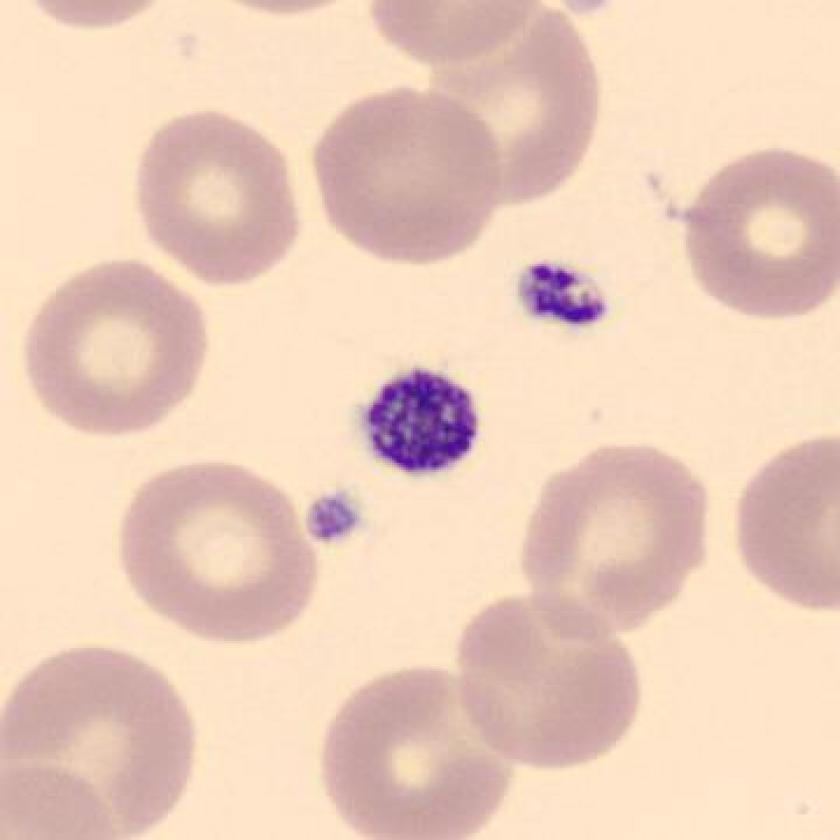platelets: (349, 360, 486, 478), (515, 251, 613, 334), (305, 476, 382, 550)
